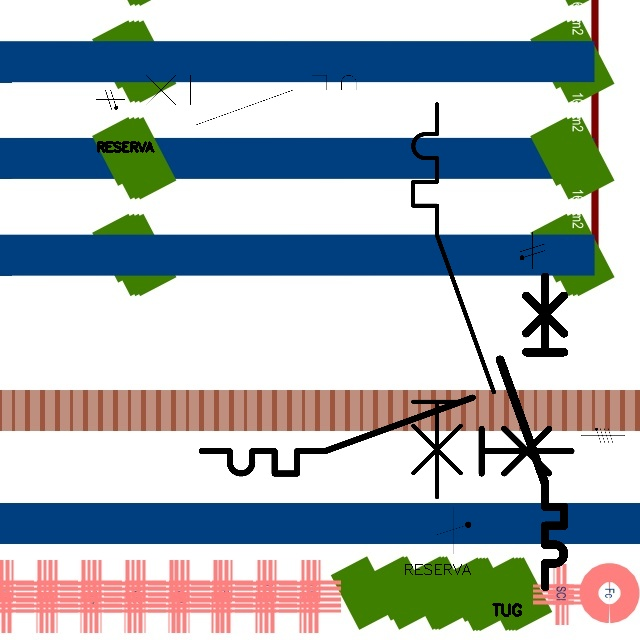interruptor_termomagnetico: (403, 94, 504, 507), (192, 388, 581, 483), (492, 268, 572, 594), (124, 69, 380, 131)
